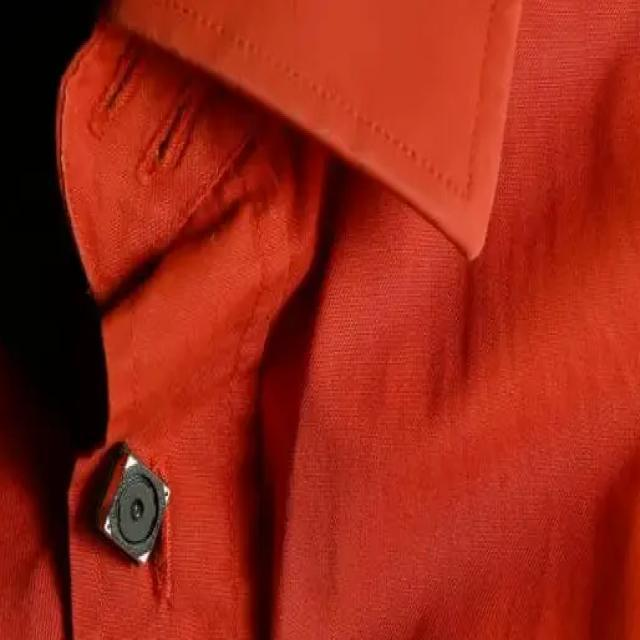hidden camera: (129, 494, 145, 527)
